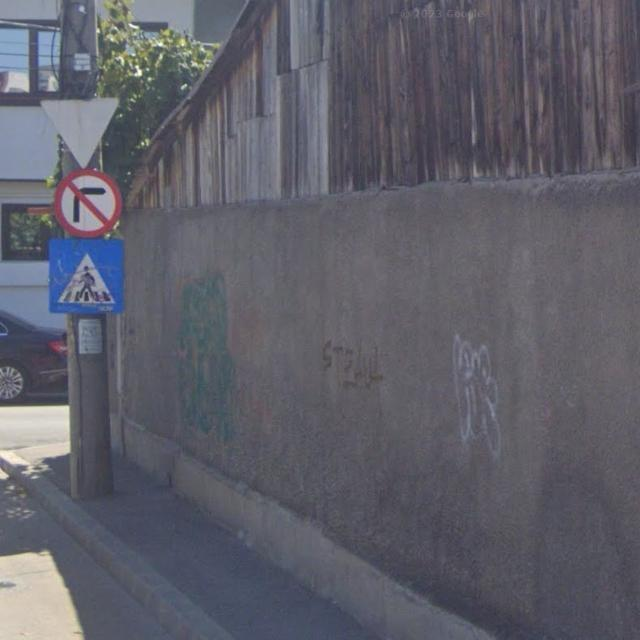info_crosswalk: (48, 238, 124, 315)
prio_give_way: (39, 96, 121, 169)
